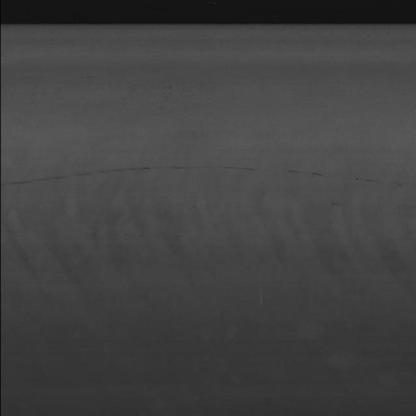inclusion: (16, 160, 400, 192)
